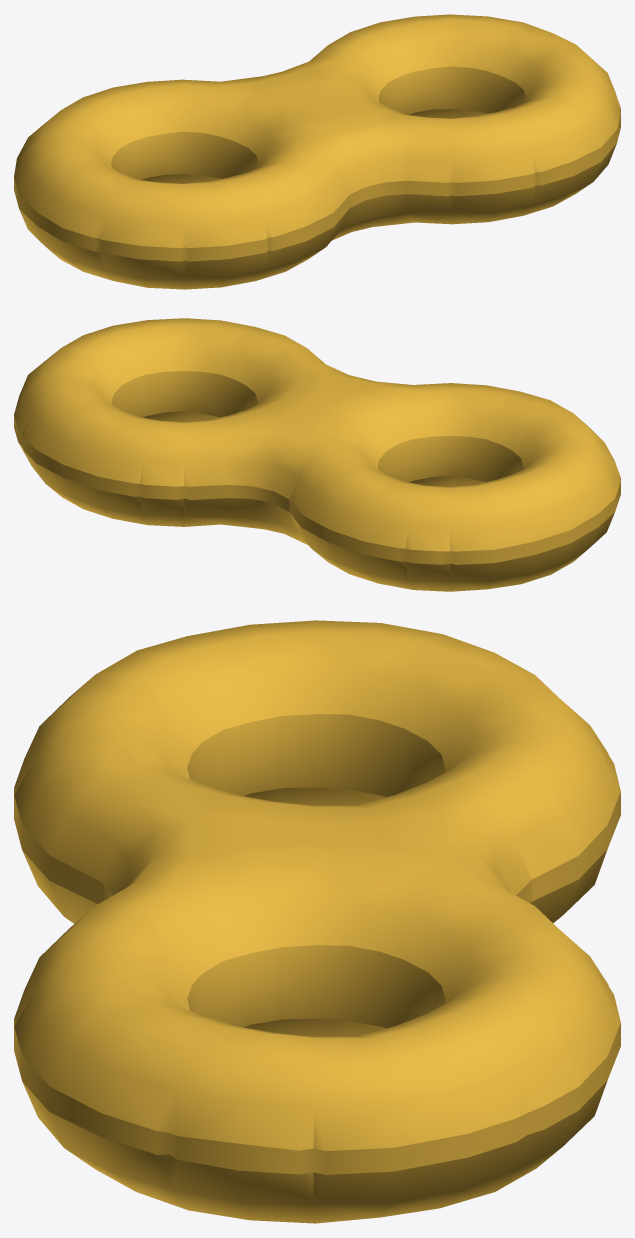
The model's file is MDL_Ring_Medium.fbx.
3 views of the same model, one above another, from view 1: azimuth 30°, elevation 25°; view 2: azimuth 150°, elevation 25°; view 3: azimuth 270°, elevation 25° (orthographic). The views are drawn at different scales.
Parts seen in each view (by area): view 1: MDL_Ring_Medium; view 2: MDL_Ring_Medium; view 3: MDL_Ring_Medium.
Part boxes in pixels (bbox=[...]): MDL_Ring_Medium: bbox=[14, 14, 620, 289]; MDL_Ring_Medium: bbox=[14, 318, 620, 591]; MDL_Ring_Medium: bbox=[14, 620, 620, 1223].
Size of the model in its own units: 134 by 23.07 by 70.8.
